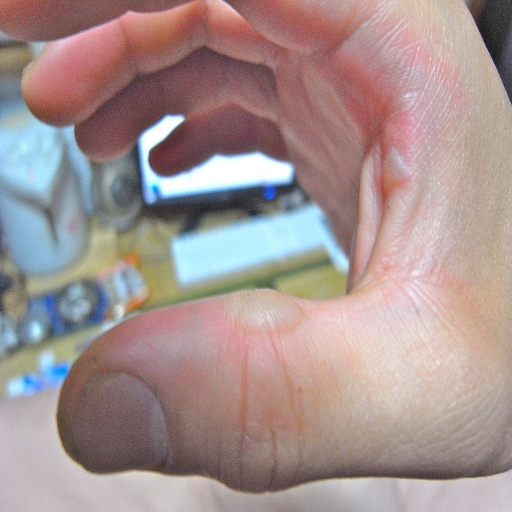hand: (1, 0, 511, 504)
